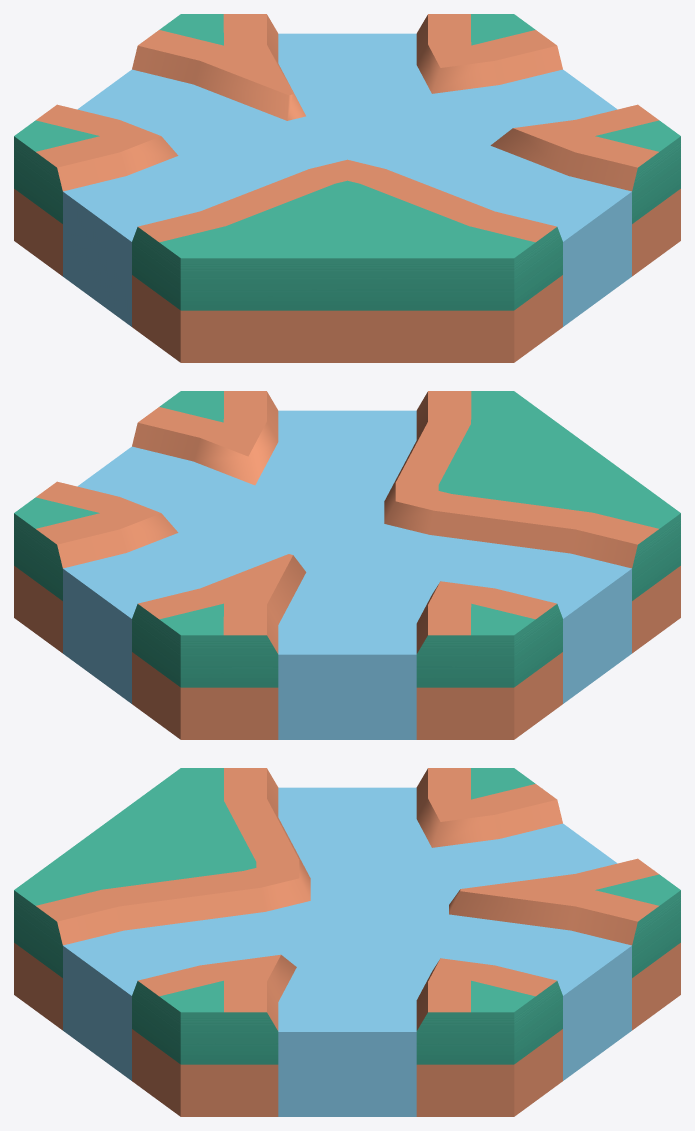
File: river-intersection-g.glb
The picture shows the model from 3 angles, top to bottom: view 1: azimuth 30°, elevation 25°; view 2: azimuth 150°, elevation 25°; view 3: azimuth 270°, elevation 25°; orthographic projection.
Parts seen in each view (by area): view 1: river-intersectionG; view 2: river-intersectionG; view 3: river-intersectionG.
Part boxes in pixels (x1,y1,x2,y2): river-intersectionG: [14, 14, 680, 362]; river-intersectionG: [14, 391, 680, 739]; river-intersectionG: [14, 768, 680, 1116].
Size of the model in its own units: 1 by 0.2 by 1.15.
1 material, 1 textured.
